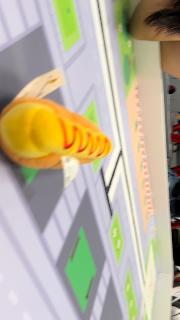hotdog: (1, 98, 113, 170)
